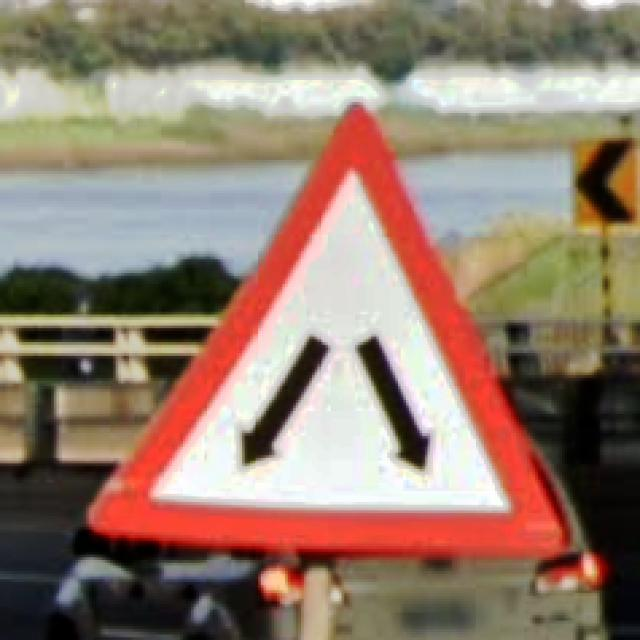diverge: (87, 101, 566, 556)
